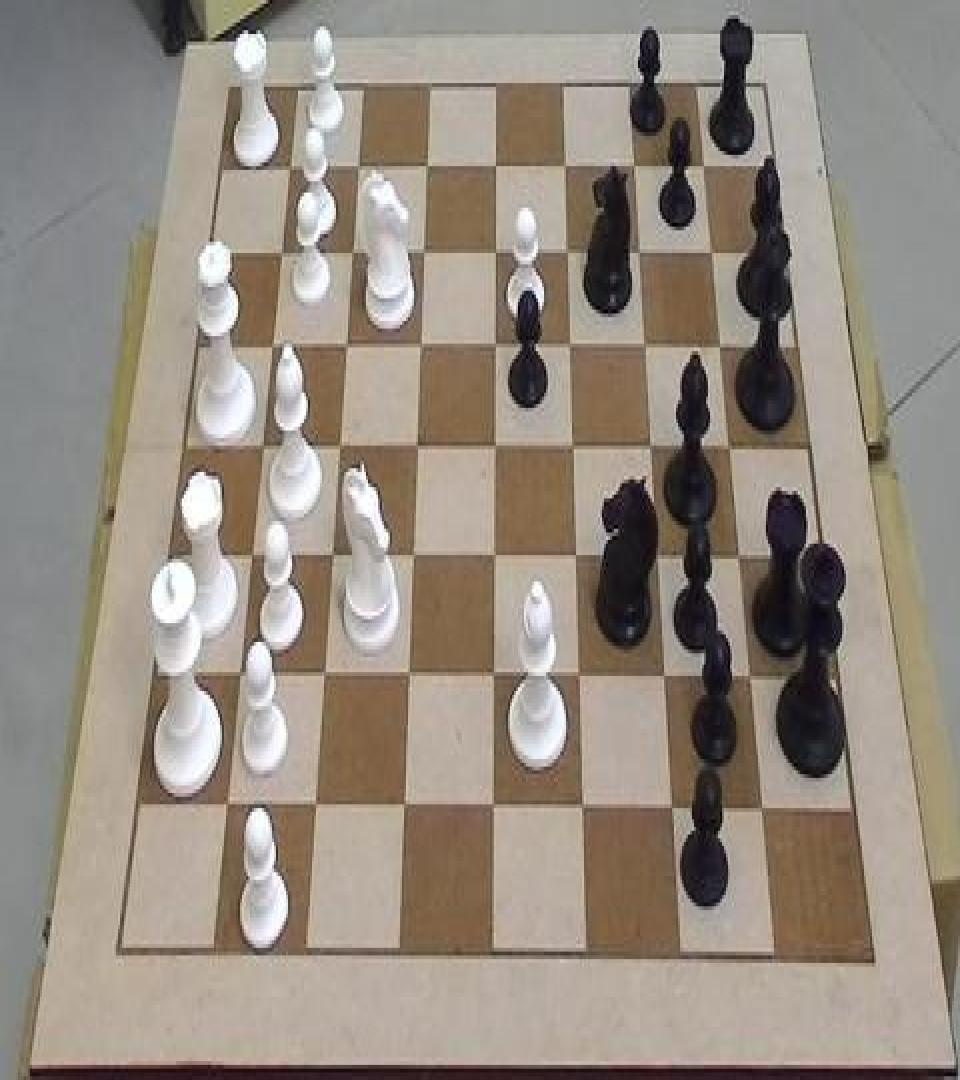xcorner: (693, 147, 713, 185), (623, 147, 643, 185), (554, 147, 574, 185), (485, 147, 505, 185), (415, 147, 435, 185), (346, 147, 366, 185), (278, 146, 298, 184), (701, 232, 721, 270), (629, 232, 649, 270), (556, 232, 576, 270), (484, 232, 504, 270), (413, 232, 433, 270), (341, 232, 361, 270), (269, 232, 289, 270), (710, 324, 730, 362), (634, 324, 654, 362), (559, 324, 579, 362), (484, 324, 504, 362), (409, 324, 429, 362), (335, 324, 355, 362), (260, 324, 280, 362), (719, 426, 739, 464), (641, 426, 661, 464), (562, 424, 582, 462), (484, 424, 504, 462), (406, 424, 426, 462), (328, 424, 348, 462), (250, 424, 270, 462), (729, 536, 749, 574), (647, 536, 667, 574), (565, 536, 585, 574), (484, 534, 504, 572), (402, 534, 422, 572), (321, 534, 341, 572), (240, 534, 260, 572), (741, 657, 761, 695), (655, 657, 675, 695), (569, 655, 589, 693), (484, 655, 504, 693), (398, 653, 418, 691), (313, 653, 333, 691), (228, 653, 248, 691), (753, 789, 773, 827), (663, 789, 683, 827), (573, 787, 593, 825), (483, 787, 503, 825), (394, 786, 414, 824), (304, 786, 324, 824), (215, 784, 235, 822)
